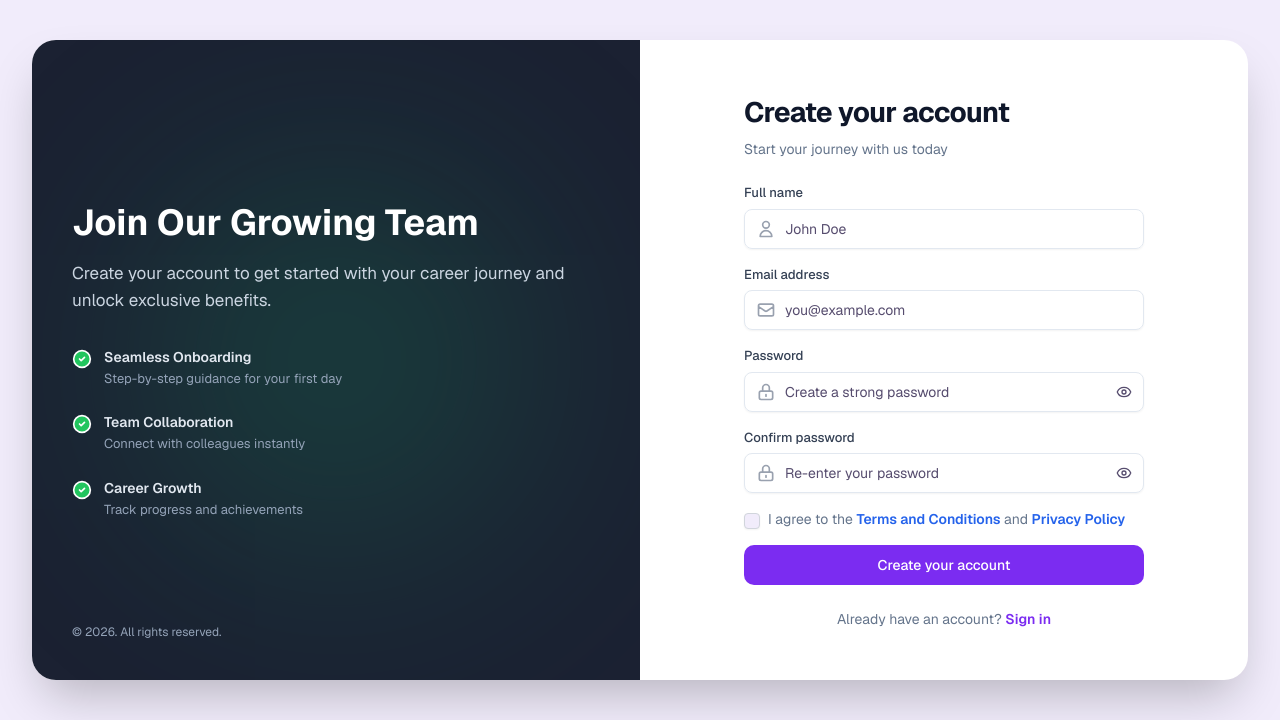
Test: RegisterPage – Password Mismatch › shows 'Passwords do not match' error when passwords differ
Expected: the field with placeholder "you@example.com" is shown, [744,290,1144,330]
In the field with placeholder "John Doe": (944, 228) [744,208,1144,248], type "Jane Smith"
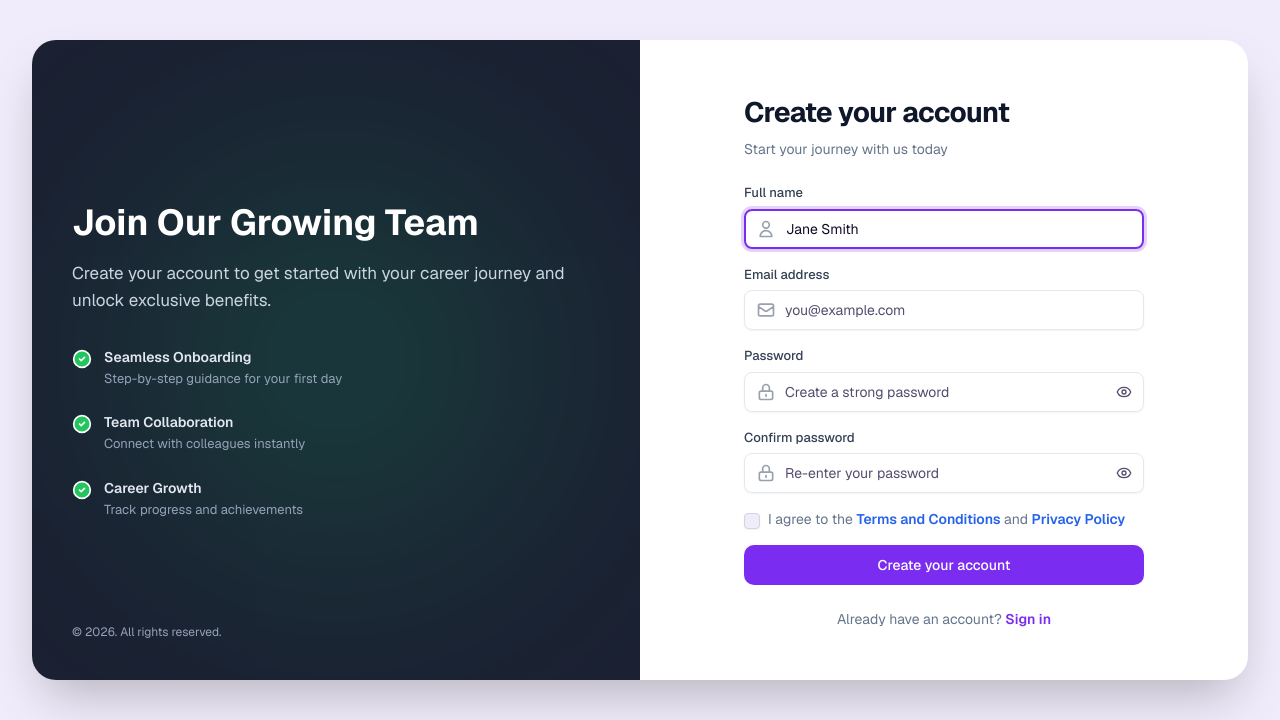
In the field with placeholder "you@example.com": (944, 310) [744,290,1144,330], type "jane@example.com"
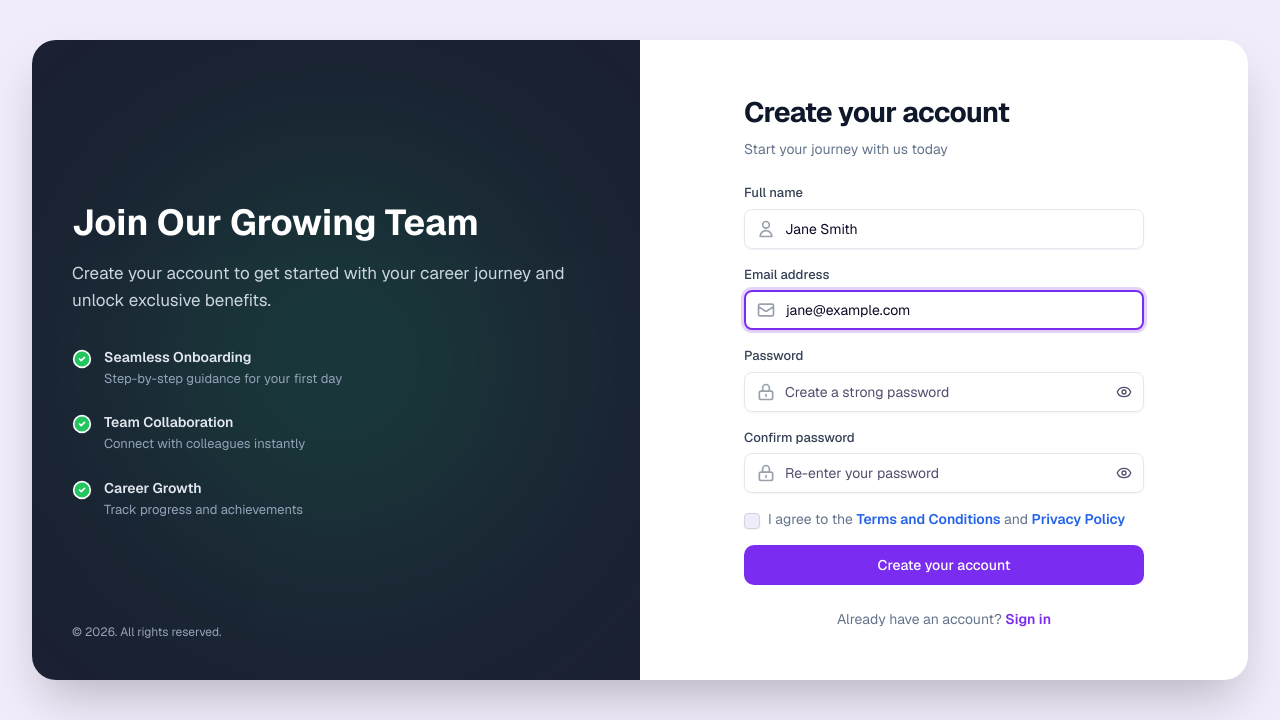
In the password field with placeholder "Create a strong password": (944, 392) [744,372,1144,412], type "Password1"
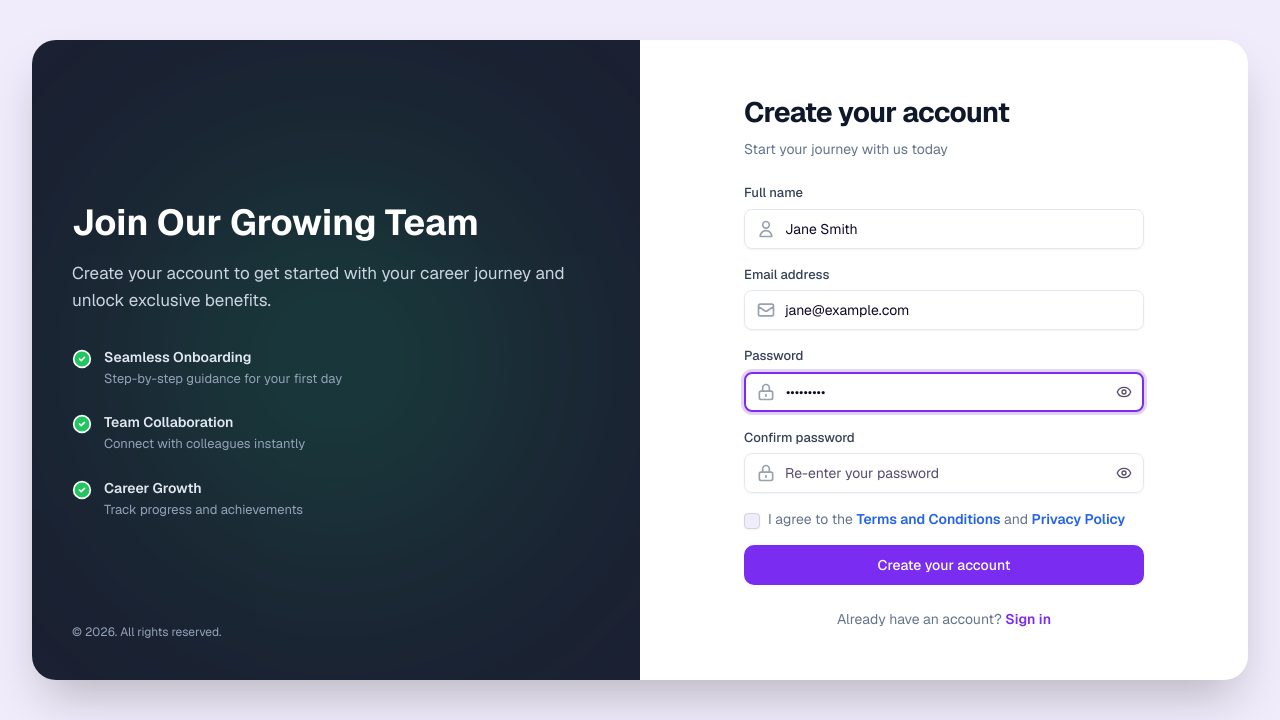
In the password field with placeholder "Re-enter your password": (944, 473) [744,453,1144,493], type "Password2"
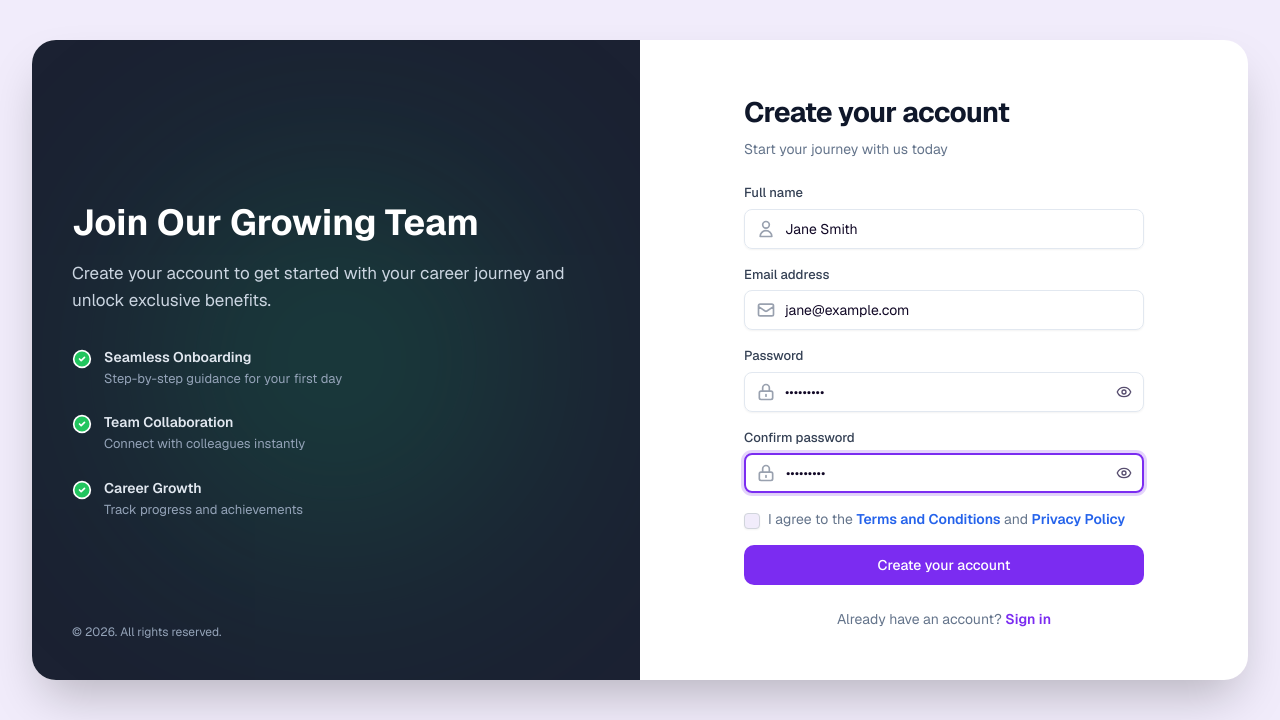
Submit the form, box [744,183,1144,585]
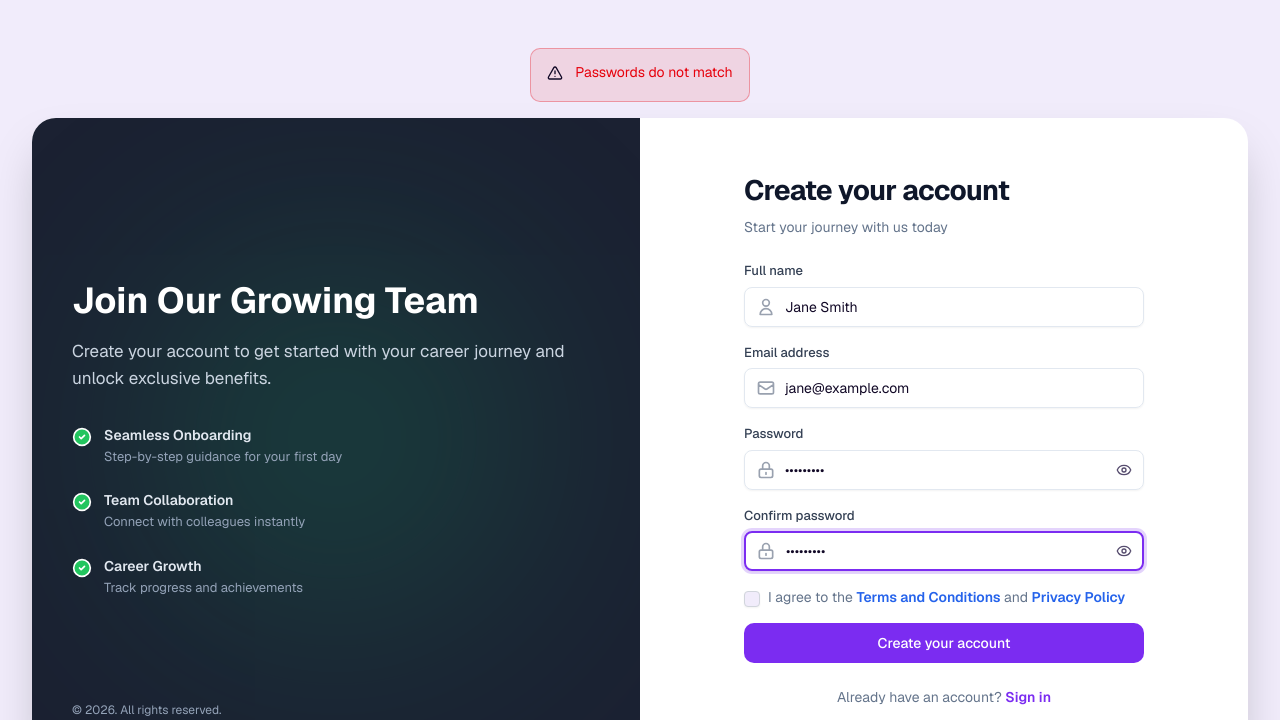
Result: the text "Passwords do not match" is shown at [575,63,733,81]
